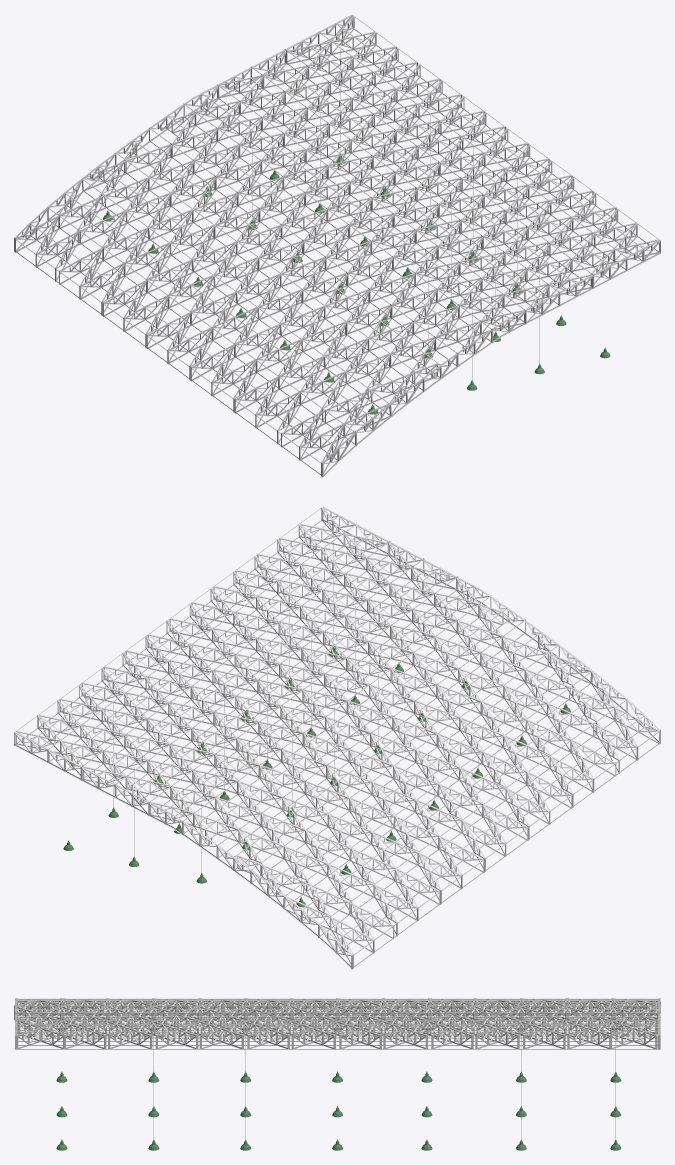
File: roof_l_bone.obj
The picture shows the model from 3 angles, top to bottom: view 1: azimuth 30°, elevation 25°; view 2: azimuth 150°, elevation 25°; view 3: azimuth 270°, elevation 25°; orthographic projection. The views are drawn at different scales.
Size of the model in its own units: 4716 by 2063 by 7472.
4 materials, 1 textured.
